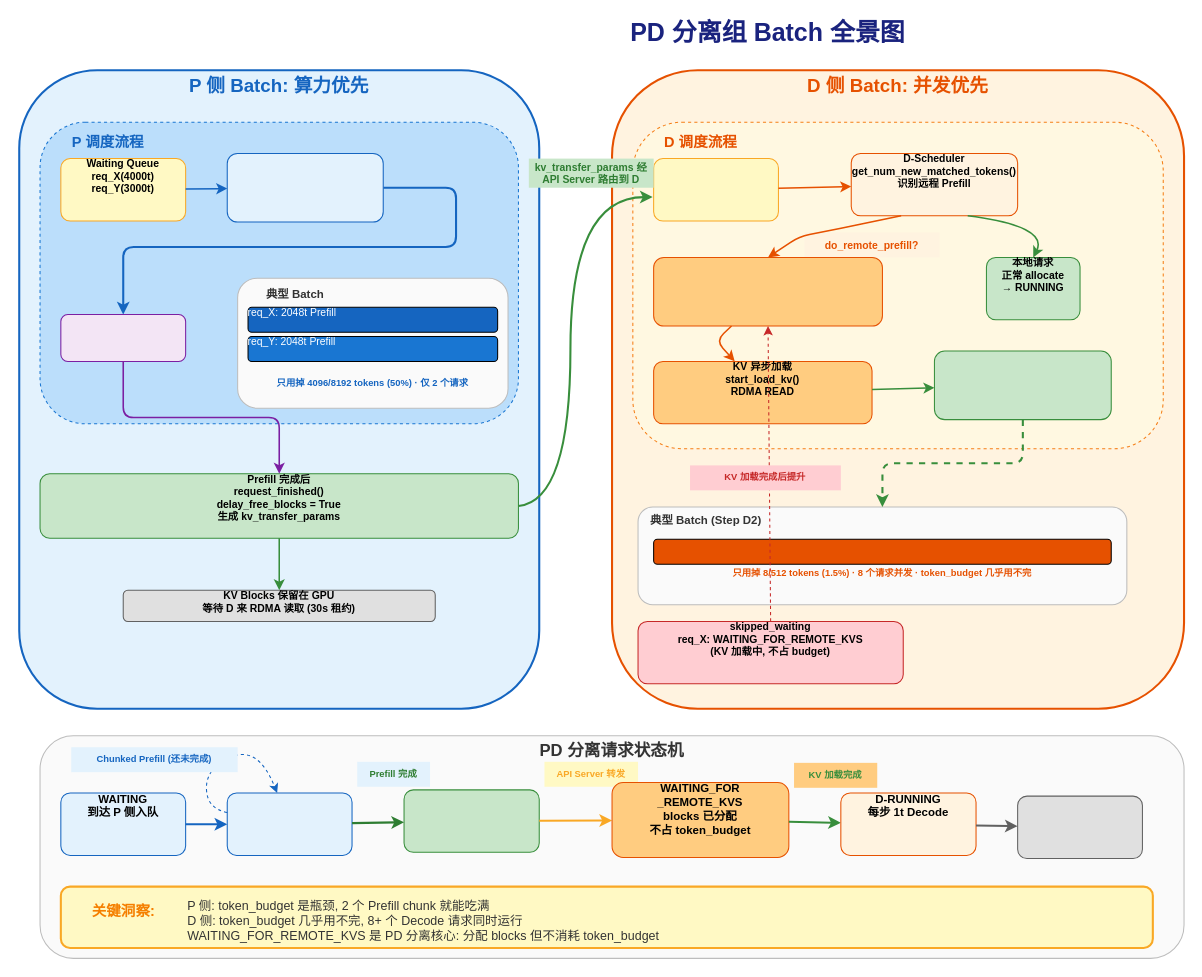
The diagram is 1202 pixels wide and 977 high, and some of its shapes have lost their labels. Here are the shapes that lost their labels. From the top down, the centre of each, then its label:
the point at 304,187: P-Scheduler 查 prefix cache allocate_slots() (do_remote_decode 一样处理)
the point at 715,189: Waiting Queue req_X (远程KV) req_A (本地)
the point at 767,291: 远程 Prefill 路径 allocate_slots(外部tokens) 不消耗 token_budget! WAITING_FOR_REMOTE_KVS
the point at 123,337: GPU Forward Prefill chunk (大块 token)
the point at 1022,385: 加载完成 finished_recving _try_promote() WAITING → RUNNING
the point at 882,551: req_A:1t req_B:1t req_C:1t req_D:1t req_E:1t req_F:1t req_G:1t req_H:1t
the point at 289,823: P-RUNNING Prefill chunk
the point at 471,820: P 完成 blocks 保留 生成 params
the point at 1079,827: FINISHED 返回给用户
